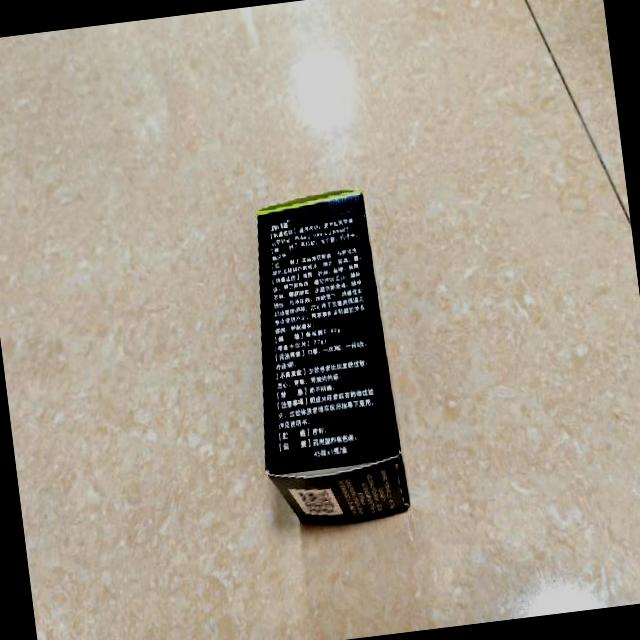box: (231, 188, 410, 530)
